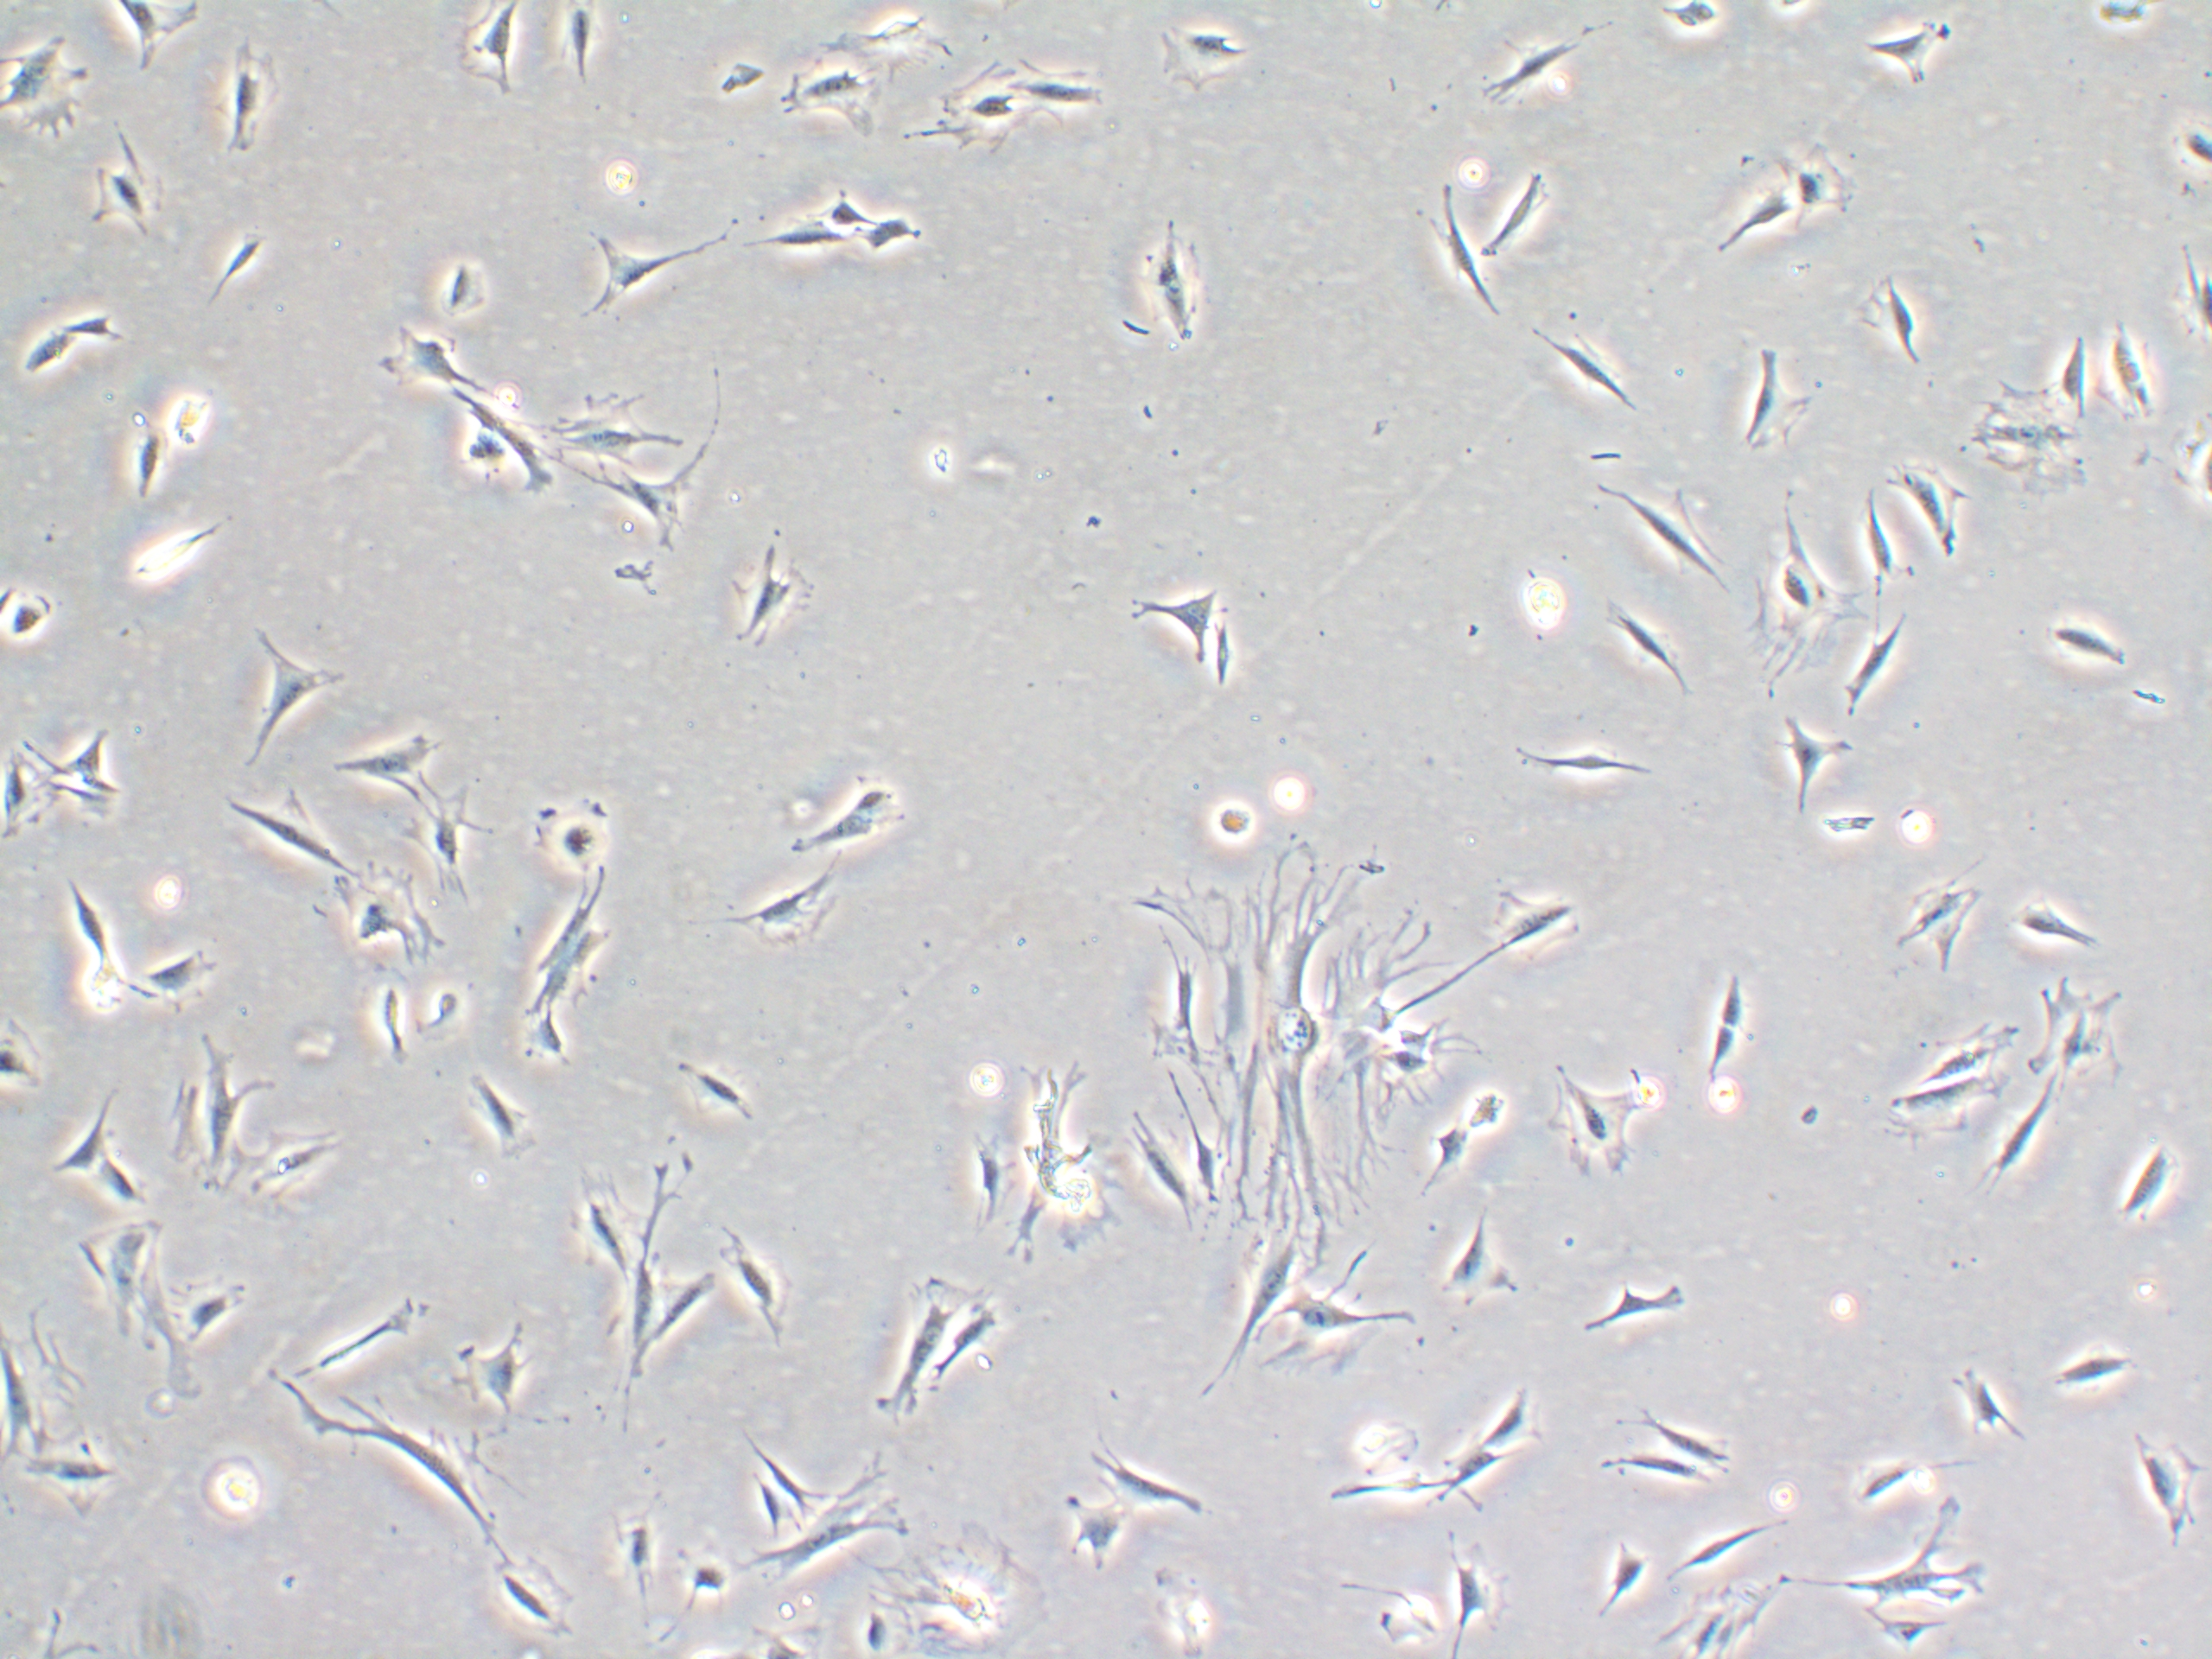small: (512, 772, 636, 890), (1660, 1509, 1794, 1588), (1613, 1403, 1752, 1478), (1580, 1532, 1663, 1649), (206, 218, 307, 312), (857, 188, 935, 272), (1186, 782, 1275, 854), (1592, 1446, 1717, 1495), (1681, 1025, 1756, 1098), (799, 183, 885, 235), (1212, 615, 1261, 706), (1700, 962, 1754, 1035)
spread: (1137, 866, 1407, 1236), (860, 1513, 1082, 1657), (996, 1053, 1125, 1277), (1730, 502, 1869, 699), (1865, 1019, 2020, 1161), (1956, 368, 2101, 509), (157, 1037, 272, 1213), (300, 850, 448, 979), (700, 533, 836, 673), (2008, 978, 2141, 1108), (529, 385, 686, 491), (561, 441, 719, 544), (2114, 1417, 2212, 1582), (707, 857, 871, 955), (913, 40, 1045, 157), (199, 35, 301, 183), (756, 44, 902, 143), (75, 1216, 174, 1363), (0, 1297, 84, 1466), (986, 37, 1120, 141), (543, 1168, 660, 1281), (152, 1269, 291, 1361), (1756, 125, 1865, 242), (1132, 216, 1217, 364), (0, 38, 106, 148), (1143, 0, 1252, 98)
